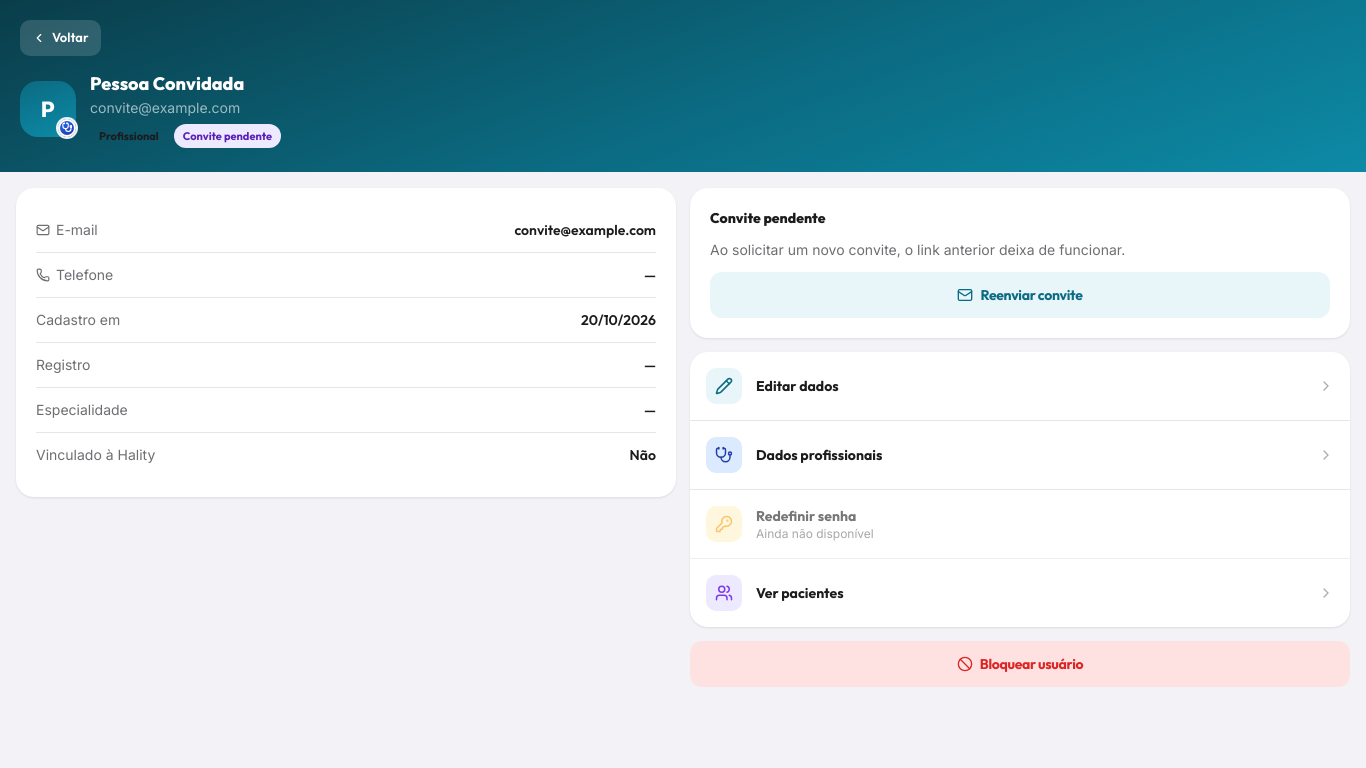
Test case: reenvio administrativo de convite › mostra erro 403 sem inventar envio e permite nova tentativa manual
Expected: the text "Pessoa Convidada" is shown, [90, 72, 244, 94]
Click the button "Reenviar convite": (1020, 295) [710, 272, 1330, 318]
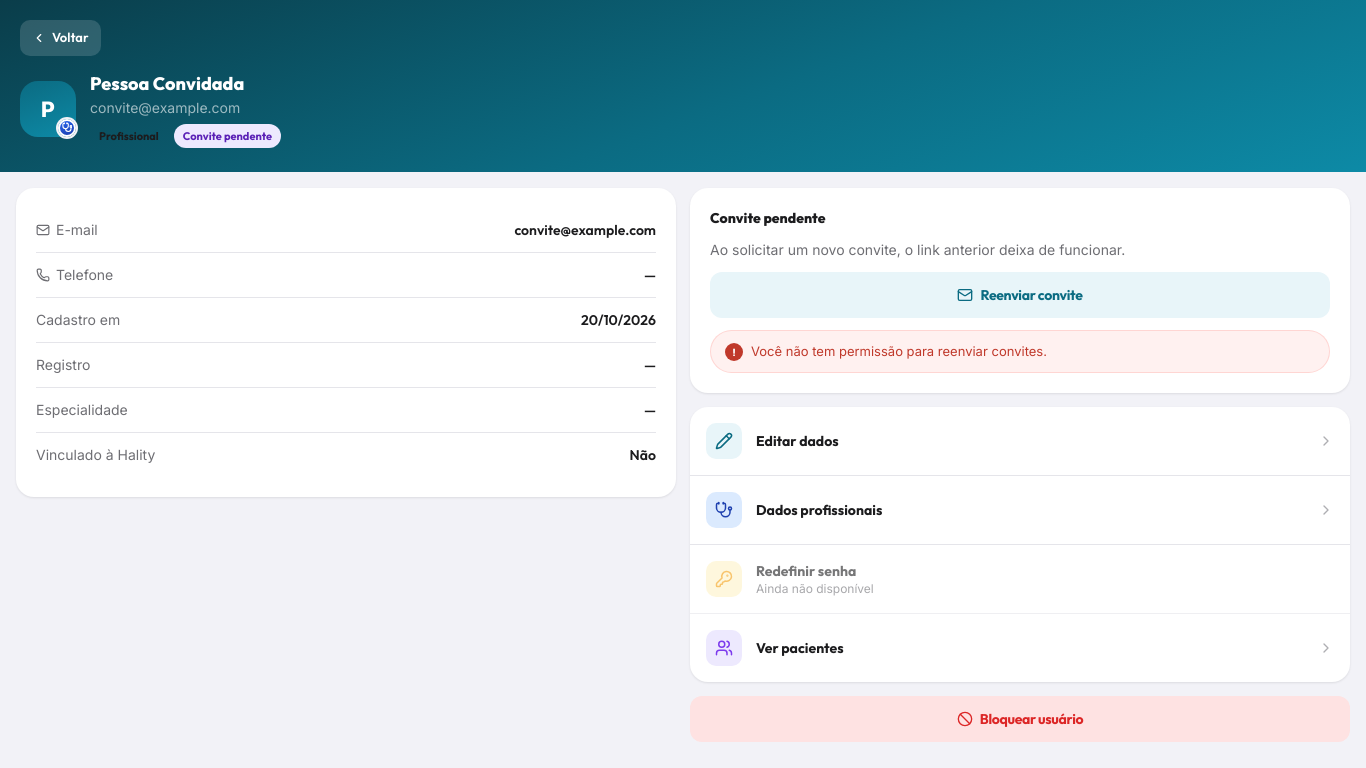
Result: the message "! Você não tem permissão para reenviar convites." is shown at [710, 330, 1330, 373]
